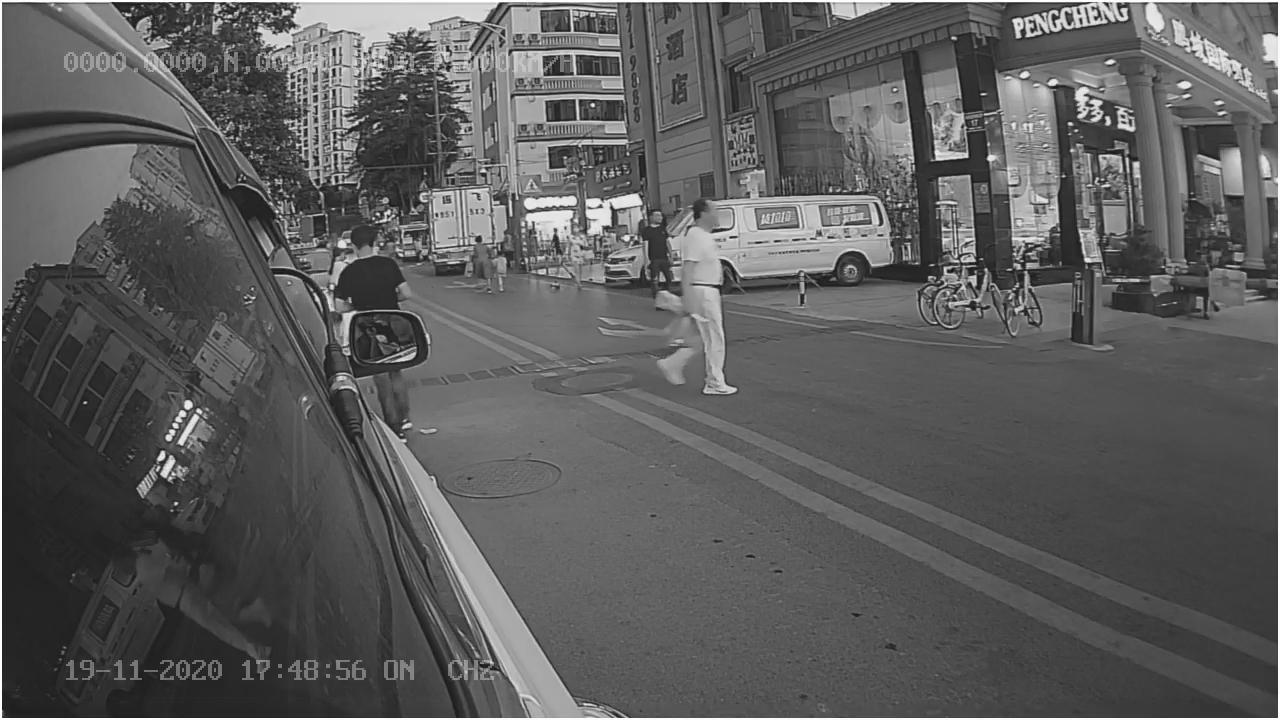person: (655, 198, 744, 402)
